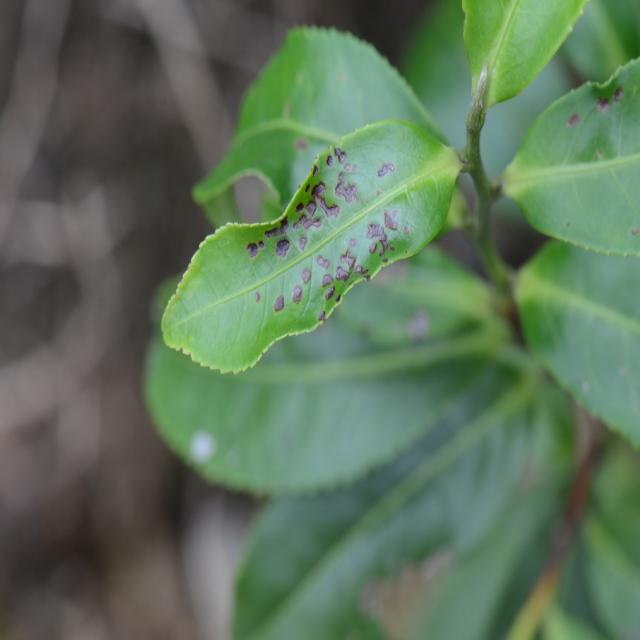Tea red scab: (231, 145, 426, 318)
